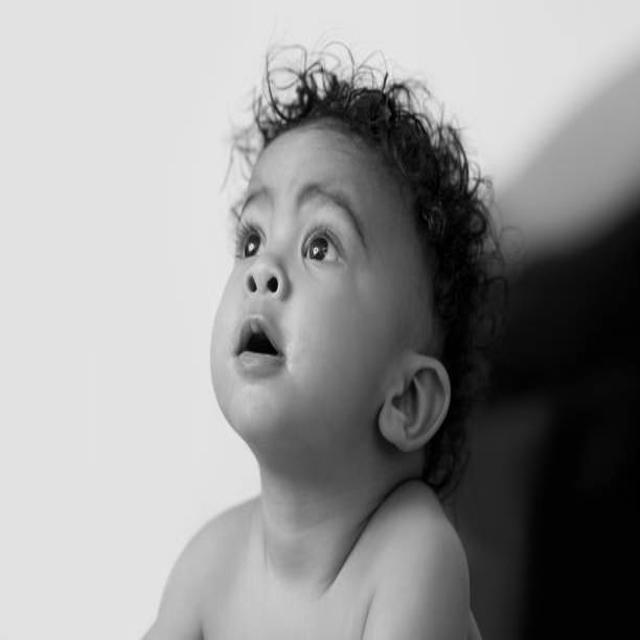Surprised: (206, 133, 410, 448)
